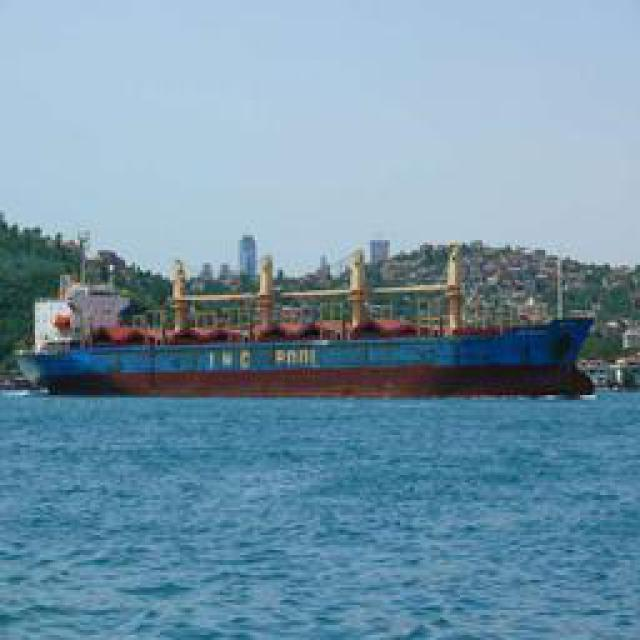Ship: (25, 293, 590, 401)
